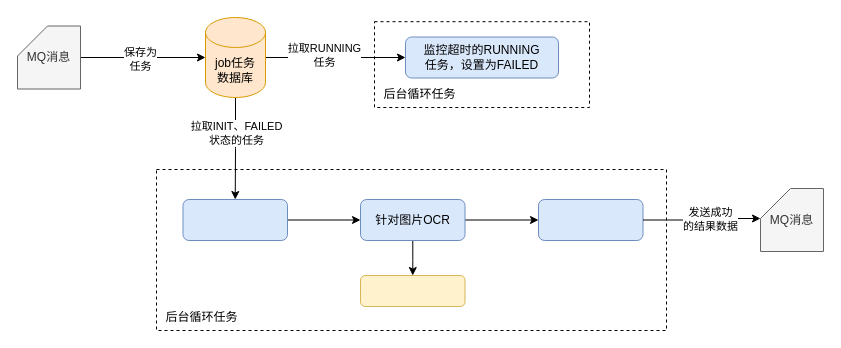
This 841x348 diagram has some shape labels left out. Here are the shapes that lost their labels. From the top down, the box of each, then its label:
(182, 198, 288, 240): 根据sku_id 获取基础信息
(538, 198, 643, 240): 生成标签
(360, 274, 465, 306): OCR缓存
